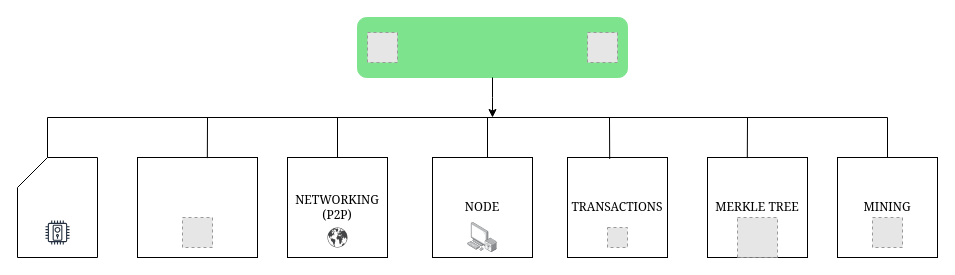
This 955x275 diagram has some shape labels left out. Grey dashed boxes stand in for pictures. Each missing label, with the box of its shape:
BLOCKCHAIN: (356, 16, 628, 78)
BLOCKS: (136, 156, 258, 258)
WALLET: (16, 156, 98, 258)
